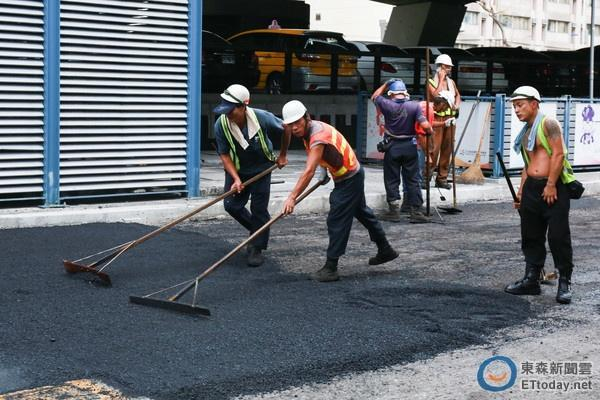gloves: (316, 166, 331, 185), (384, 77, 403, 87)
helmet: (220, 84, 251, 106), (282, 100, 308, 124), (434, 53, 455, 68), (388, 80, 407, 93)
no-gloves: (540, 178, 558, 207), (282, 192, 296, 217), (230, 176, 244, 197), (276, 148, 289, 170), (438, 68, 446, 82)
no-shoes: (506, 86, 542, 102)
no-vest: (374, 96, 428, 138)
person: (281, 99, 401, 282), (503, 84, 585, 304), (212, 84, 292, 266), (369, 77, 437, 224), (419, 54, 462, 190)
shoes: (504, 258, 546, 296), (368, 238, 399, 266), (308, 256, 341, 282), (375, 193, 402, 222), (554, 270, 574, 304), (408, 199, 434, 223), (246, 242, 266, 266)
vest: (518, 116, 576, 184), (218, 108, 277, 172), (303, 120, 358, 180), (427, 77, 457, 117)
